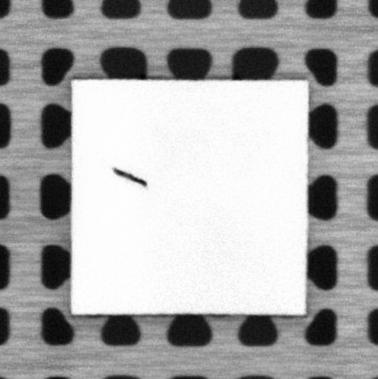DIE_INK: (110, 165, 147, 186)
